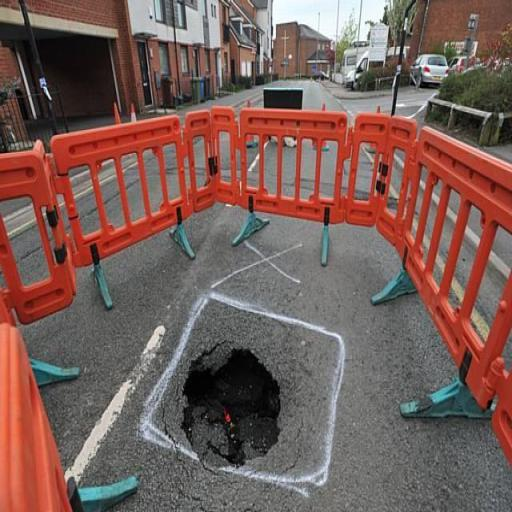Concentric_Crack: (182, 343, 280, 466)
